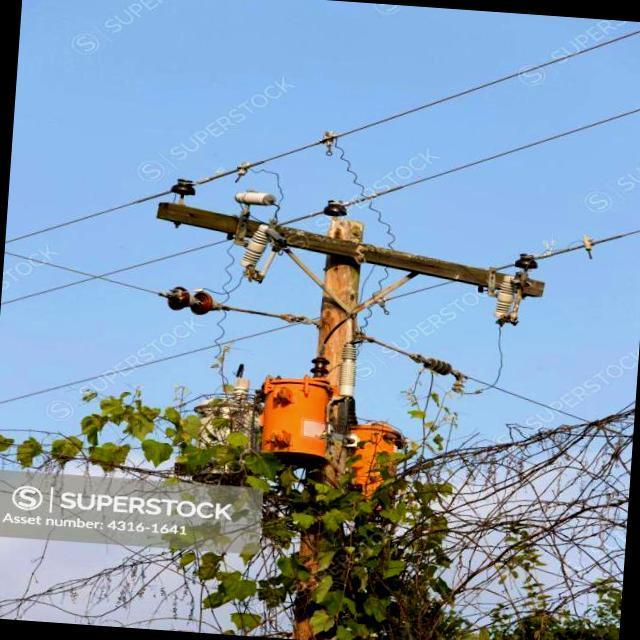critical vegetation: (264, 201, 561, 640), (138, 189, 548, 498)
